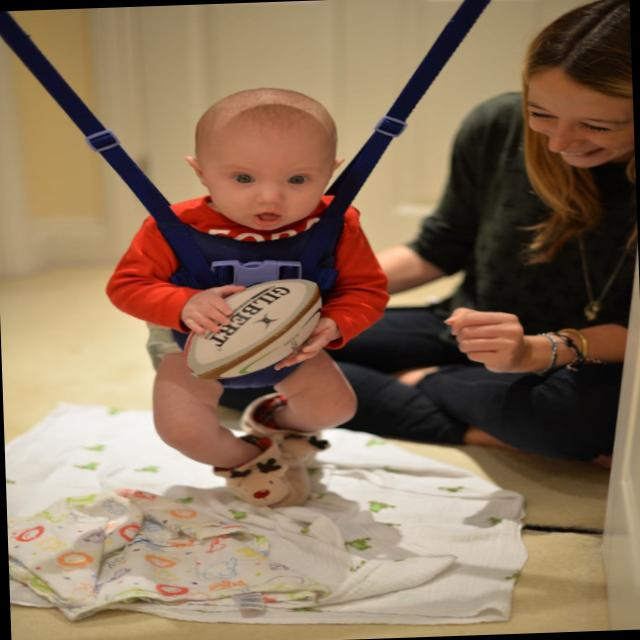Ball: (181, 275, 324, 384)
